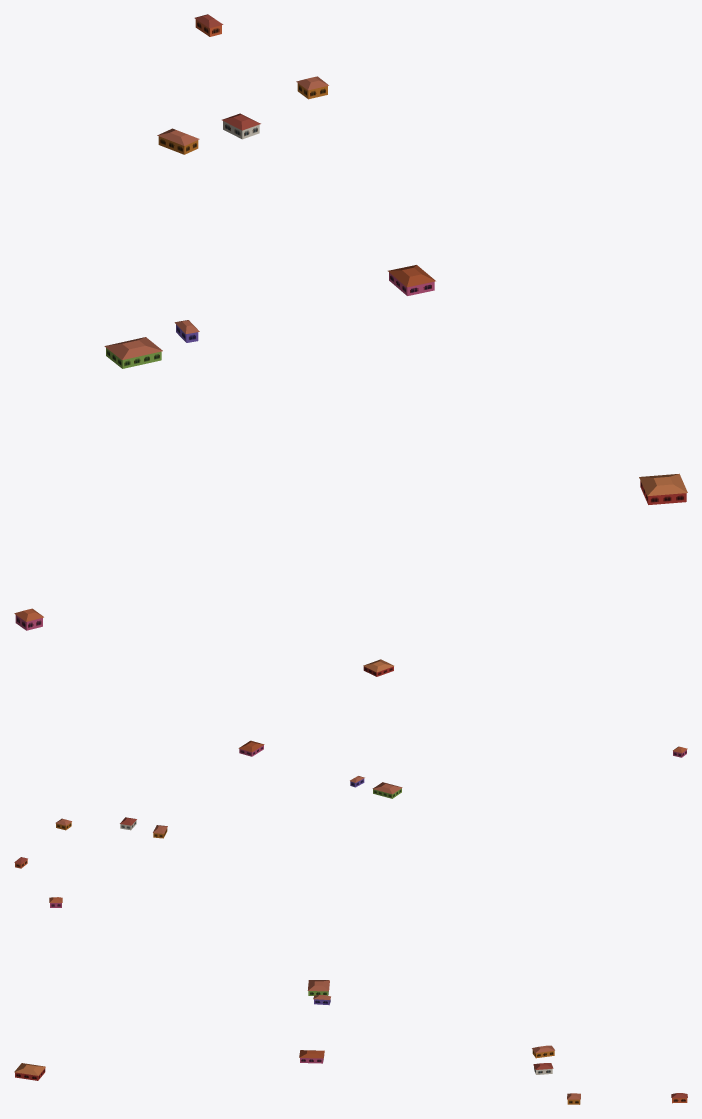
Rendered from msb_noord_m11_m12.glb.
3 views of the same model, one above another, from view 1: azimuth 30°, elevation 25°; view 2: azimuth 150°, elevation 25°; view 3: azimuth 270°, elevation 25° (orthographic). The views are drawn at different scales.
Parts seen in each view (by area): view 1: msb_noord_m11_m12_lod0; view 2: msb_noord_m11_m12_lod0; view 3: msb_noord_m11_m12_lod0.
Boxes of the visible parts, <box> form: msb_noord_m11_m12_lod0: <box>14,14,687,630</box>; msb_noord_m11_m12_lod0: <box>14,659,687,868</box>; msb_noord_m11_m12_lod0: <box>14,897,687,1104</box>.
Size of what is drawn, in the model's own units: 294 by 14.58 by 399.
Materials: 2 (1 with a texture image).
